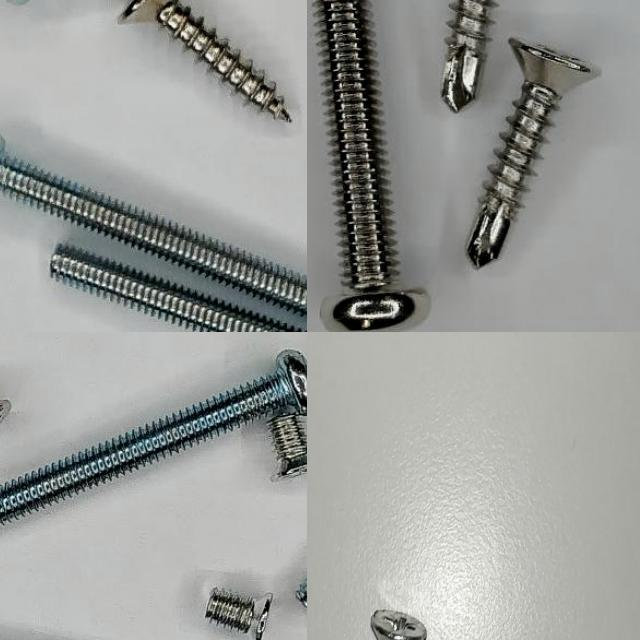Screw: (0, 139, 307, 319), (0, 351, 307, 524), (314, 0, 429, 332), (467, 38, 598, 268), (51, 247, 307, 332), (120, 0, 292, 122), (442, 0, 496, 112), (206, 590, 273, 640), (269, 415, 307, 478), (371, 609, 427, 640)
